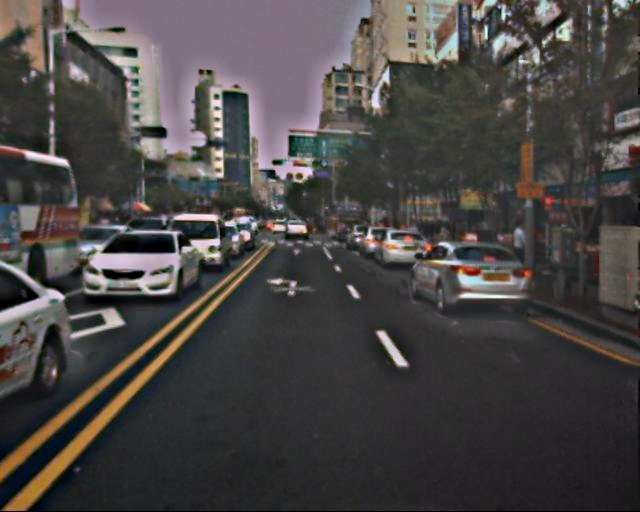person: (505, 218, 534, 288)
